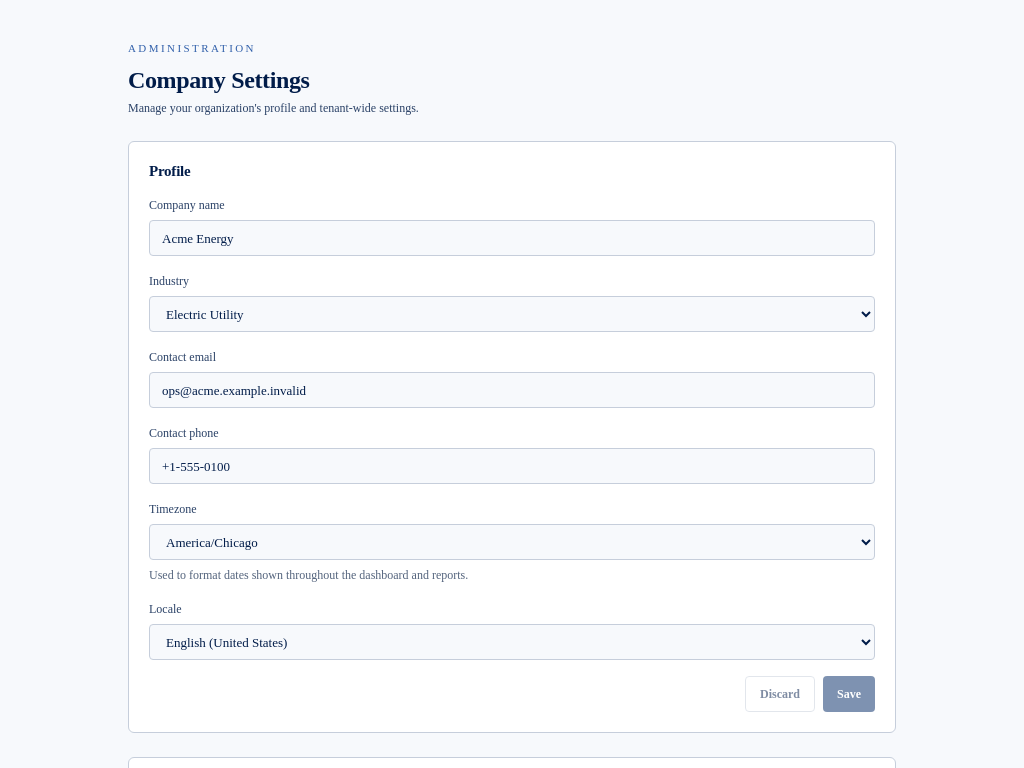
Test case: company settings page › tracks dirty state, saves changes, and discards them
Expected: the button "Save" is disabled, left=823, top=676, right=875, bottom=712
Replace the text in the field showing "Acme Energy" with "Acme Energy Holdings". click: coordinates (512, 238)
box: left=149, top=220, right=875, bottom=256
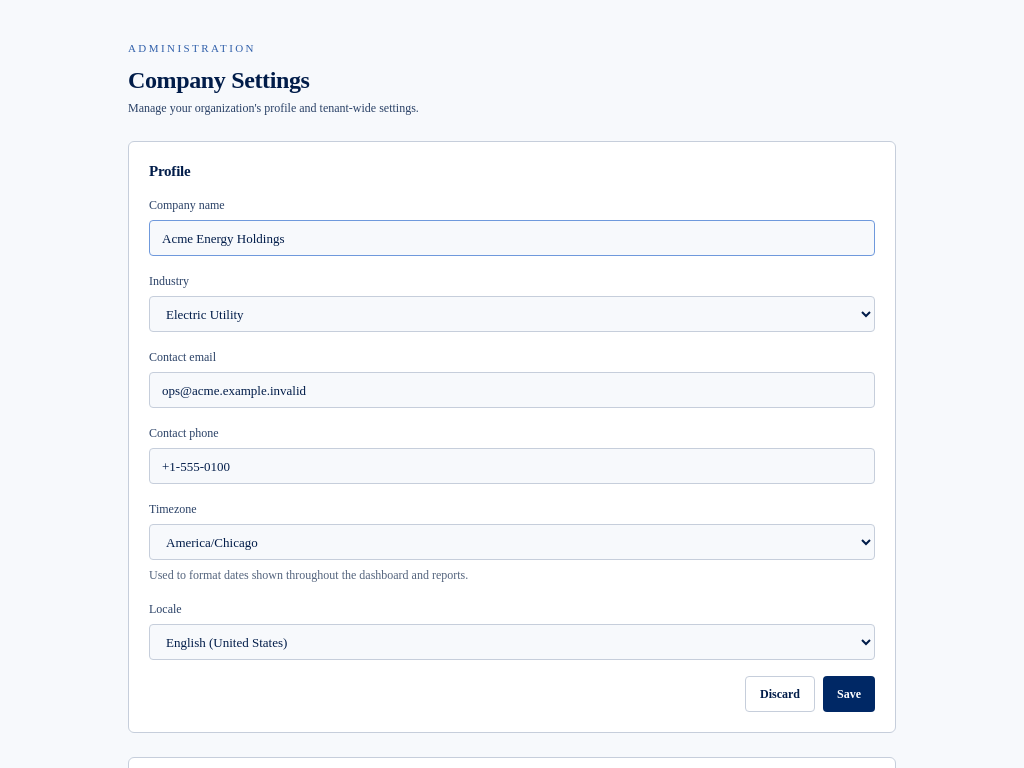
Expected: the button "Save" is enabled, left=823, top=676, right=875, bottom=712
Click the button "Discard". click: coordinates (780, 694)
box: left=745, top=676, right=815, bottom=712
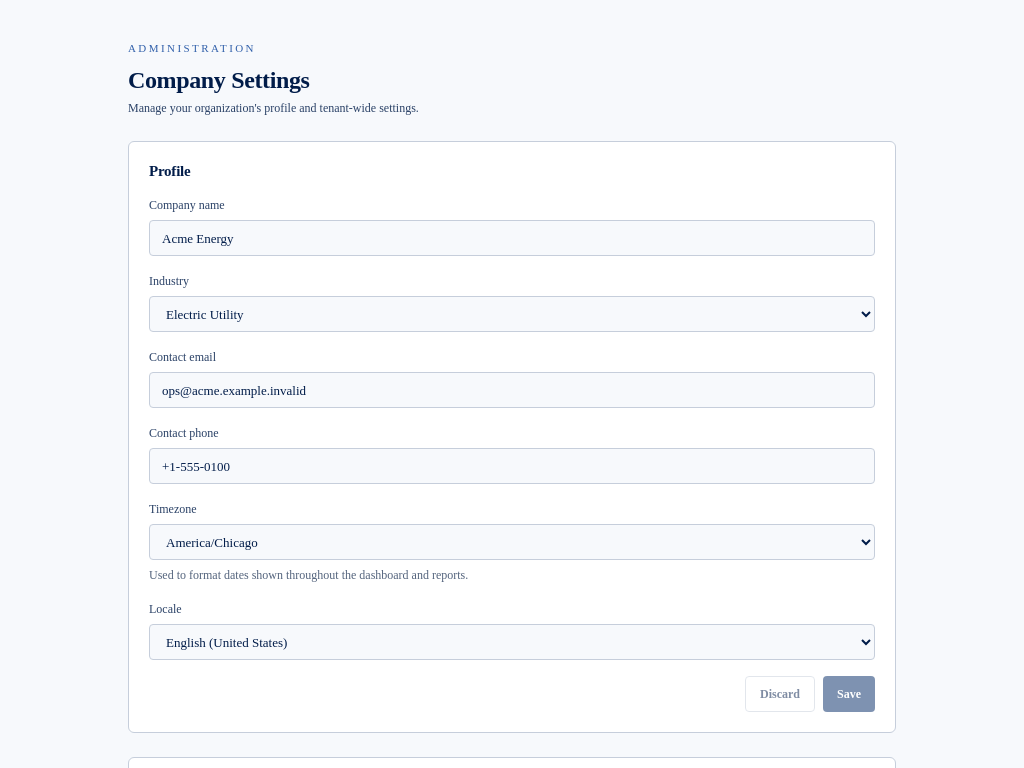
Expected: the field showing "Acme Energy" holds "Acme Energy"
Expected: the button "Save" is disabled, left=823, top=676, right=875, bottom=712
Replace the text in the field showing "Acme Energy" with "Acme Energy Holdings". click: coordinates (512, 238)
box: left=149, top=220, right=875, bottom=256
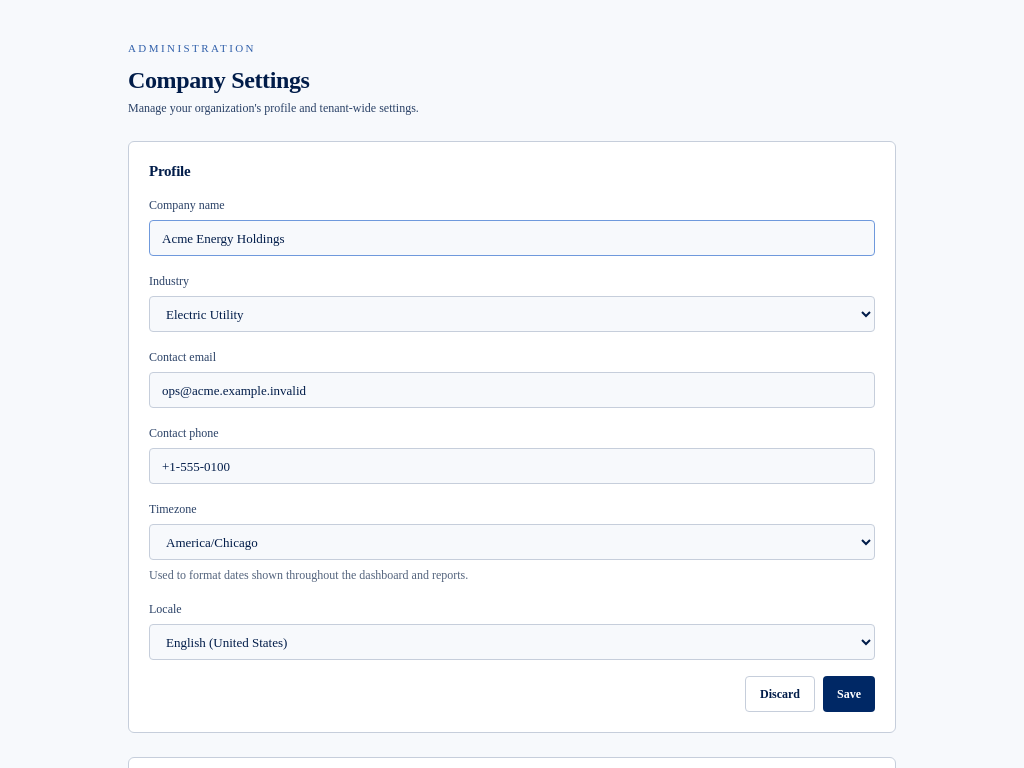
Click the button "Save". click: coordinates (849, 694)
box: left=823, top=676, right=875, bottom=712
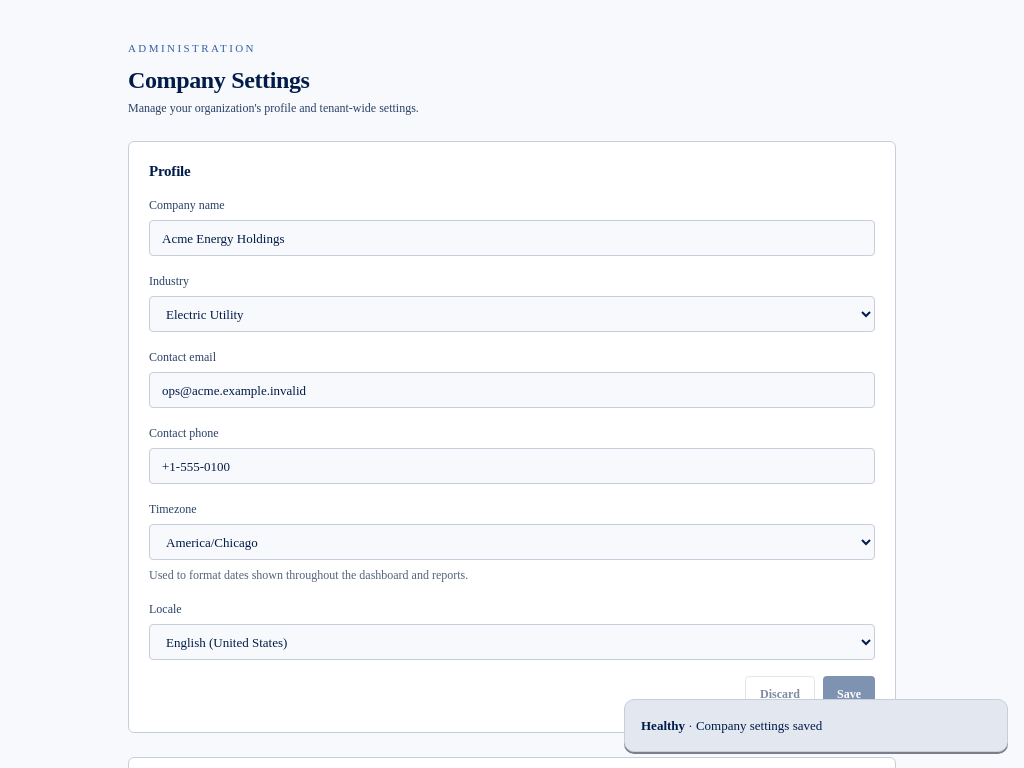
Expected: the text "healthy · Company settings saved" is shown, left=624, top=698, right=1008, bottom=752
